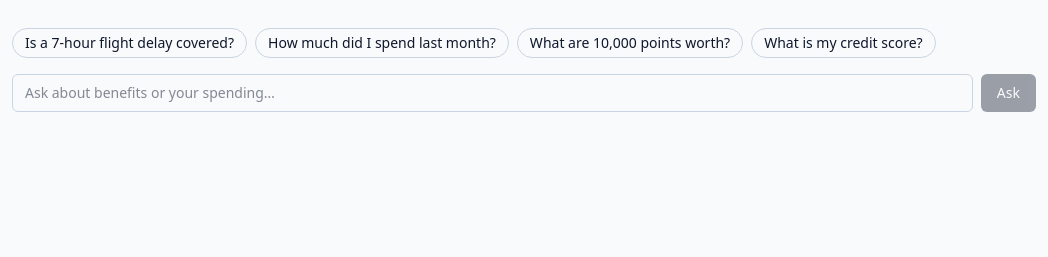
Test: ChatPanel › shows the answer without raw citation markers, plus source chips
Type "Is a 7-hour delay covered?" into the field named "Ask about this card".
click(492, 93); type("Is a 7-hour delay covered?")  # box left=12, top=74, right=973, bottom=112
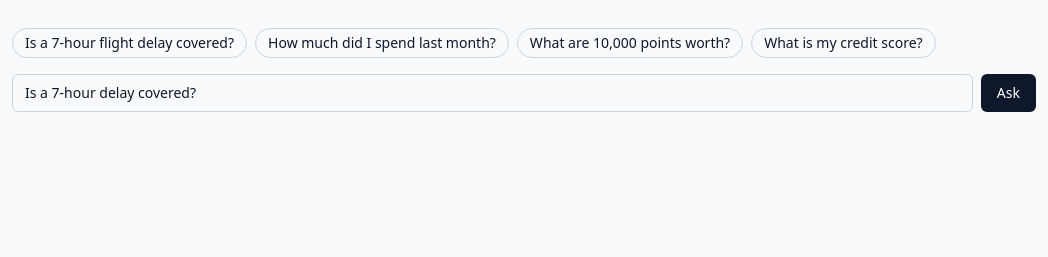
Click the button "Ask".
click(1008, 93)  # box left=981, top=74, right=1036, bottom=112
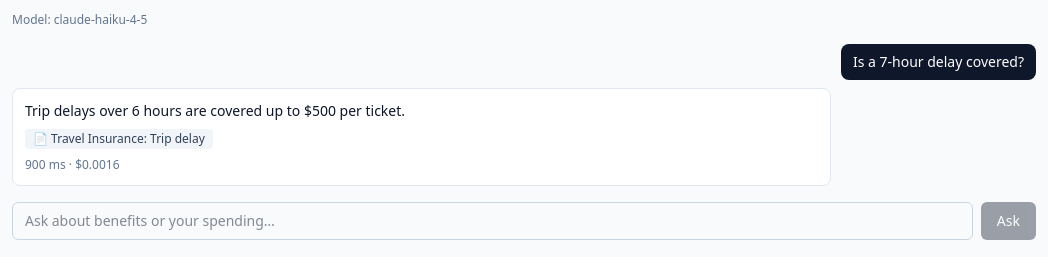
Result: the text "Trip delays over 6 hours are covered up to $500 per ticket." is shown at left=25, top=101, right=405, bottom=120
Result: the list named "Sources" shows "Travel Insurance: Trip delay" at left=51, top=130, right=205, bottom=147
